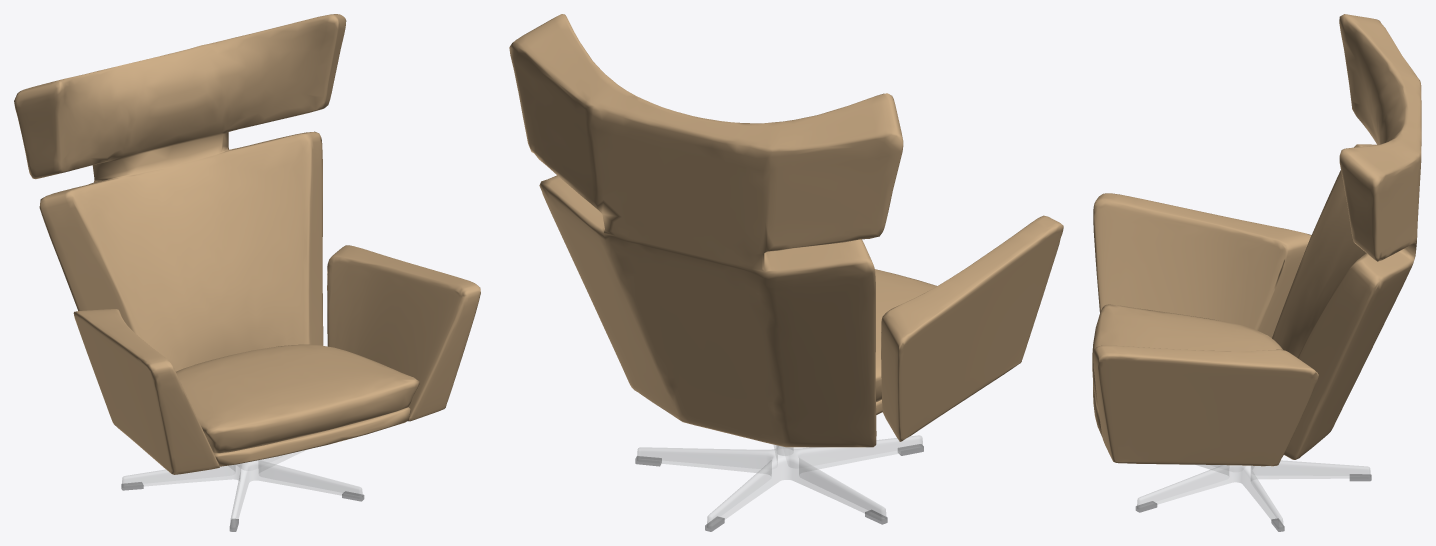
Rendered from Chair.glb.
3 renders of one model, left to right at view 1: azimuth 30°, elevation 25°; view 2: azimuth 150°, elevation 25°; view 3: azimuth 270°, elevation 25°, orthographic. The views are drawn at different scales.
Parts seen in each view (by area): view 1: Furniture_Sofas-Armchairs_Fritz-Hansen_OksenT-4201; view 2: Furniture_Sofas-Armchairs_Fritz-Hansen_OksenT-4201; view 3: Furniture_Sofas-Armchairs_Fritz-Hansen_OksenT-4201.
Boxes of the visible parts, left/top/right/bottom form: Furniture_Sofas-Armchairs_Fritz-Hansen_OksenT-4201: left=14, top=14, right=480, bottom=531; Furniture_Sofas-Armchairs_Fritz-Hansen_OksenT-4201: left=509, top=14, right=1063, bottom=531; Furniture_Sofas-Armchairs_Fritz-Hansen_OksenT-4201: left=1092, top=14, right=1421, bottom=531.
Size of the model in its own units: 96.27 by 109 by 81.72.
